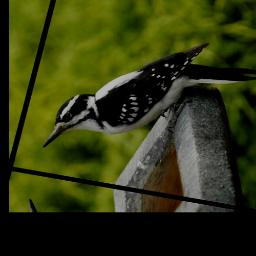Woodpecker: (36, 18, 256, 183)
